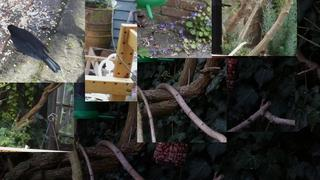blackbird: (7, 24, 61, 73)
